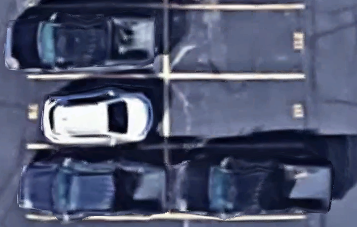Occupied: (27, 5, 166, 76), (28, 76, 166, 147), (166, 147, 304, 217), (28, 148, 166, 217)
Vacant: (166, 6, 305, 76), (166, 76, 305, 146)
